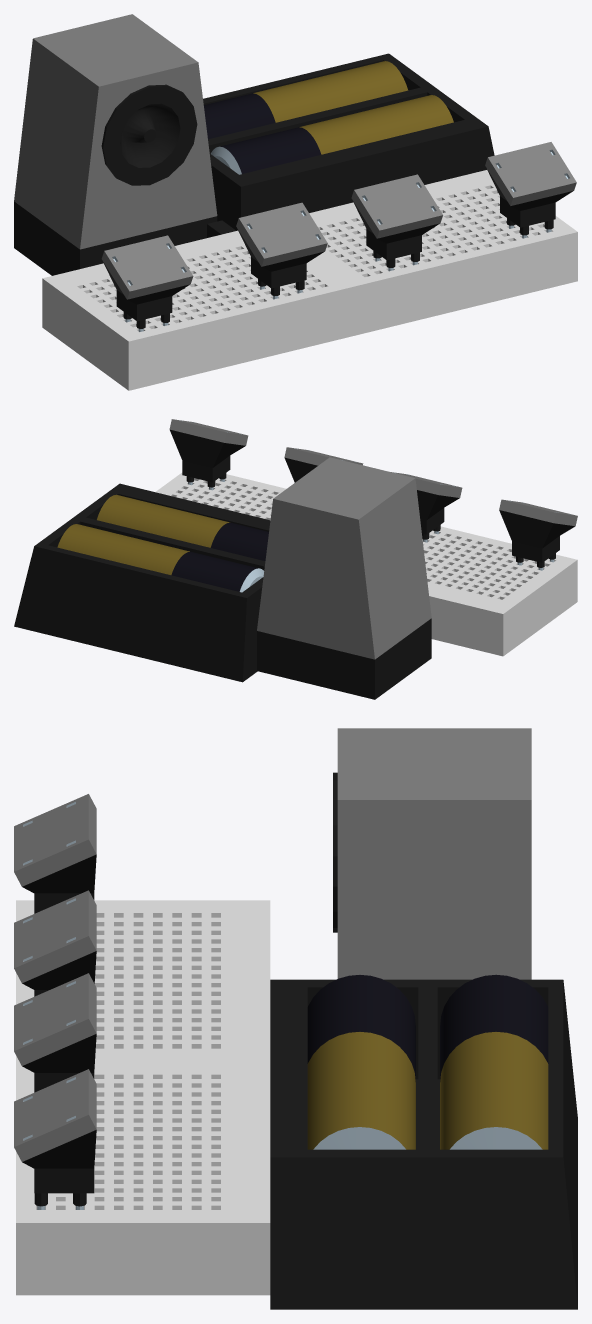
Rendered from SimonSaysMachine.fbx.
The picture shows the model from 3 angles, top to bottom: view 1: azimuth 30°, elevation 25°; view 2: azimuth 150°, elevation 25°; view 3: azimuth 270°, elevation 25°; orthographic projection. The views are drawn at different scales.
Visible parts, largest first — view 1: SimonSaysMachine; view 2: SimonSaysMachine; view 3: SimonSaysMachine.
Part boxes in pixels (left/top/right/bottom): SimonSaysMachine: left=14, top=14, right=577, bottom=390; SimonSaysMachine: left=14, top=419, right=577, bottom=699; SimonSaysMachine: left=14, top=728, right=577, bottom=1309.
Size of the model in its own units: 9.87 by 4.2 by 7.05.
